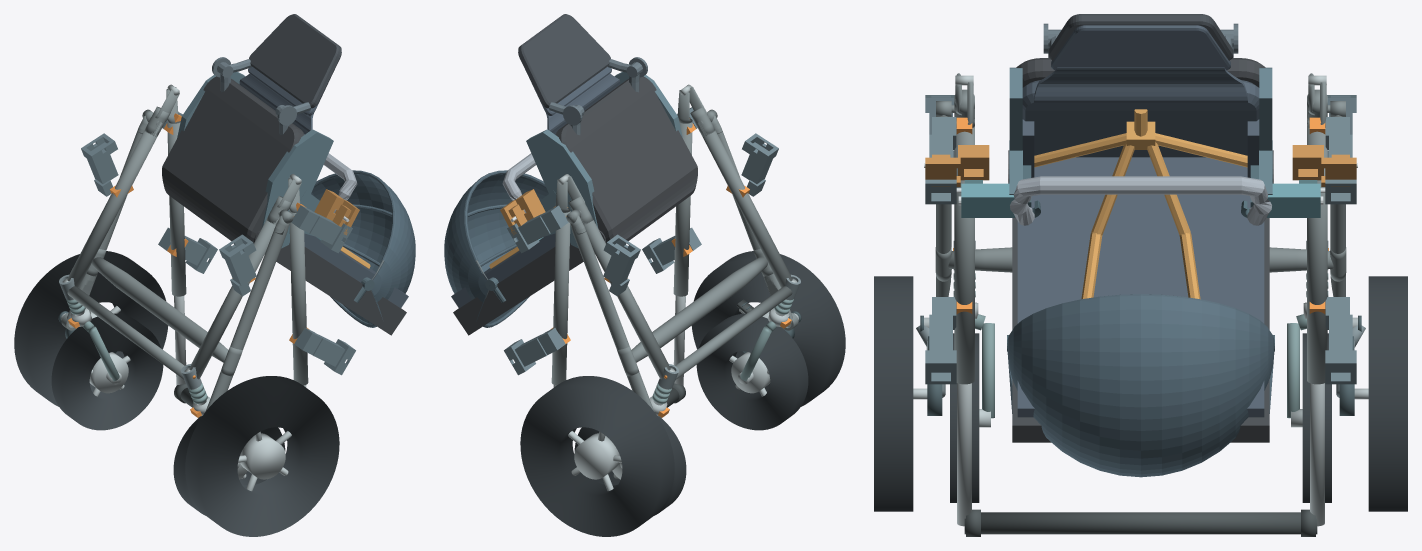
The model's file is S05_w650_state3_wheel_L.glb.
The picture shows the model from 3 angles, left to right: view 1: azimuth 30°, elevation 25°; view 2: azimuth 150°, elevation 25°; view 3: azimuth 270°, elevation 25°; orthographic projection. The views are drawn at different scales.
Visible parts, largest first — view 1: S05_Cabin, RL_tire.008, FR_tire.008, RR_tire.008, S05_Cabin_Mount_M, V46_rearbar.009, main_lower_1.009, V46_rear_leg_-1.009, main_upper_-1.009, main_lower_-1.009, front_fixed_round_tube.008, main_upper_1.009 (+12 smaller); view 2: S05_Cabin, RR_tire.008, FL_tire.008, RL_tire.008, S05_Cabin_Mount_M, V46_rearbar.009, main_lower_-1.009, V46_rear_leg_1.009, main_upper_1.009, main_lower_1.009, front_fixed_round_tube.008, main_upper_-1.009 (+12 smaller); view 3: S05_Cabin, RL_tire.008, RR_tire.008, round_handle.008, S05_Cabin_Mount_M, main_upper_1.009, main_upper_-1.009, Universal_Cabin_Receiver_H_1, Universal_Cabin_Receiver_H_-1, FL_tire.008, FR_tire.008, handle_slider_1.008 (+10 smaller).
Boxes of the visible parts, x1,y1,x2,y2 form: S05_Cabin: (162,14,415,335); RL_tire.008: (185,376,339,536); FR_tire.008: (51,313,163,430); RR_tire.008: (14,251,168,406); S05_Cabin_Mount_M: (177,72,333,248); V46_rearbar.009: (92,257,228,362); main_lower_1.009: (67,122,162,287); V46_rear_leg_-1.009: (205,222,288,411); main_upper_-1.009: (289,211,308,385); main_lower_-1.009: (189,218,278,379); front_fixed_round_tube.008: (67,286,184,379); main_upper_1.009: (167,121,186,296); S05_Cabin: (444,14,697,335); RR_tire.008: (520,376,674,536); FL_tire.008: (696,313,808,430); RL_tire.008: (691,251,845,406); S05_Cabin_Mount_M: (526,72,682,248); V46_rearbar.009: (631,257,767,362); main_lower_-1.009: (697,122,792,287); V46_rear_leg_1.009: (571,222,654,411); main_upper_1.009: (551,211,570,385); main_lower_1.009: (581,218,670,379); front_fixed_round_tube.008: (675,286,792,379); main_upper_-1.009: (673,121,692,296); S05_Cabin: (1007,14,1274,477); RL_tire.008: (874,276,913,511); RR_tire.008: (1368,276,1407,511); round_handle.008: (964,512,1317,534); S05_Cabin_Mount_M: (956,67,1325,217); main_upper_1.009: (1307,123,1327,384); main_upper_-1.009: (954,126,974,384); Universal_Cabin_Receiver_H_1: (1325,297,1356,384); Universal_Cabin_Receiver_H_-1: (925,297,956,384); FL_tire.008: (950,333,979,502); FR_tire.008: (1302,333,1331,502); handle_slider_1.008: (1310,383,1324,526).
Size of the model in its own units: 0.7591 by 0.9873 by 0.8171.
